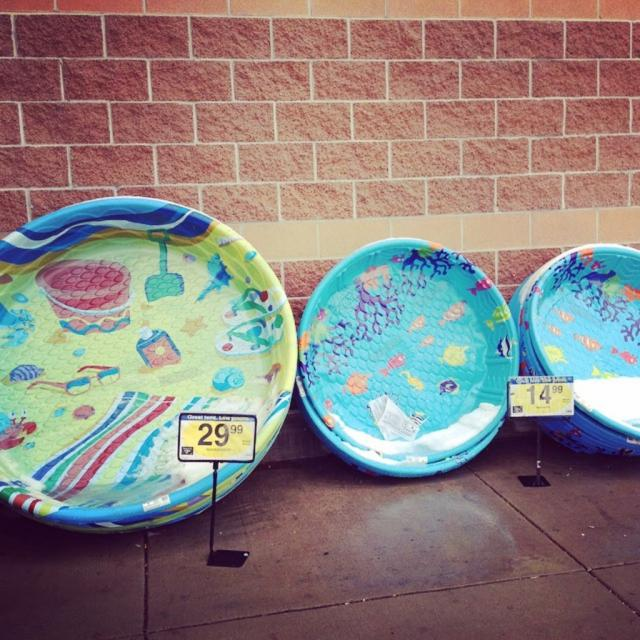non-organic waste: (10, 181, 289, 575), (301, 212, 525, 492), (502, 242, 640, 502)
